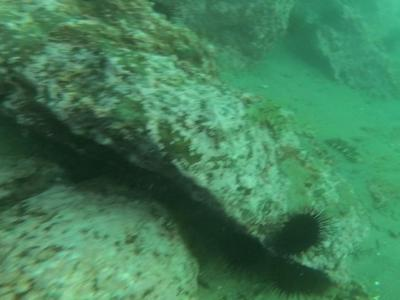holothurian: (324, 135, 370, 165)
urchin: (270, 206, 323, 254), (272, 262, 333, 297), (219, 231, 265, 277)
